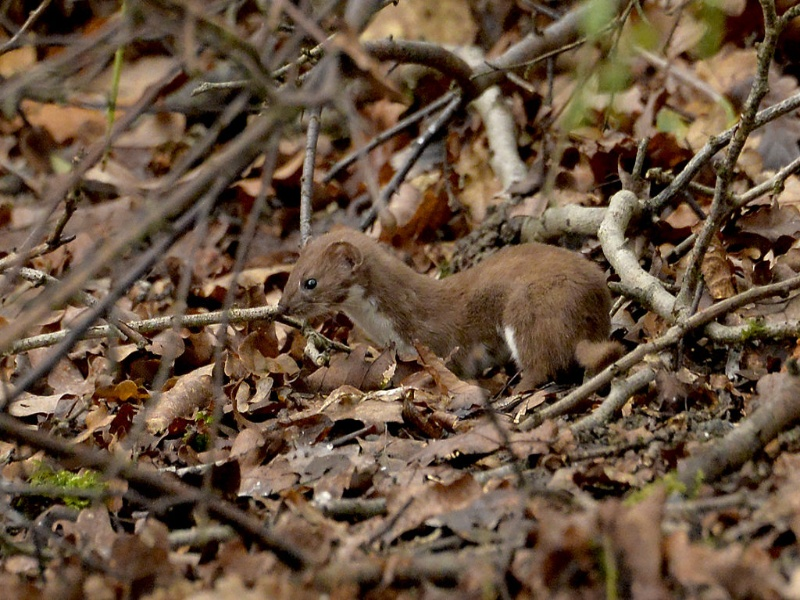minkish: (275, 227, 631, 401)
